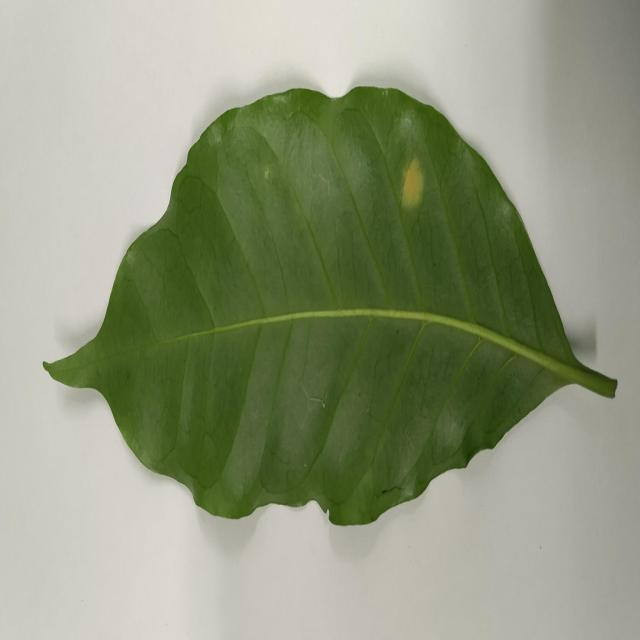rust: (398, 156, 432, 221)
